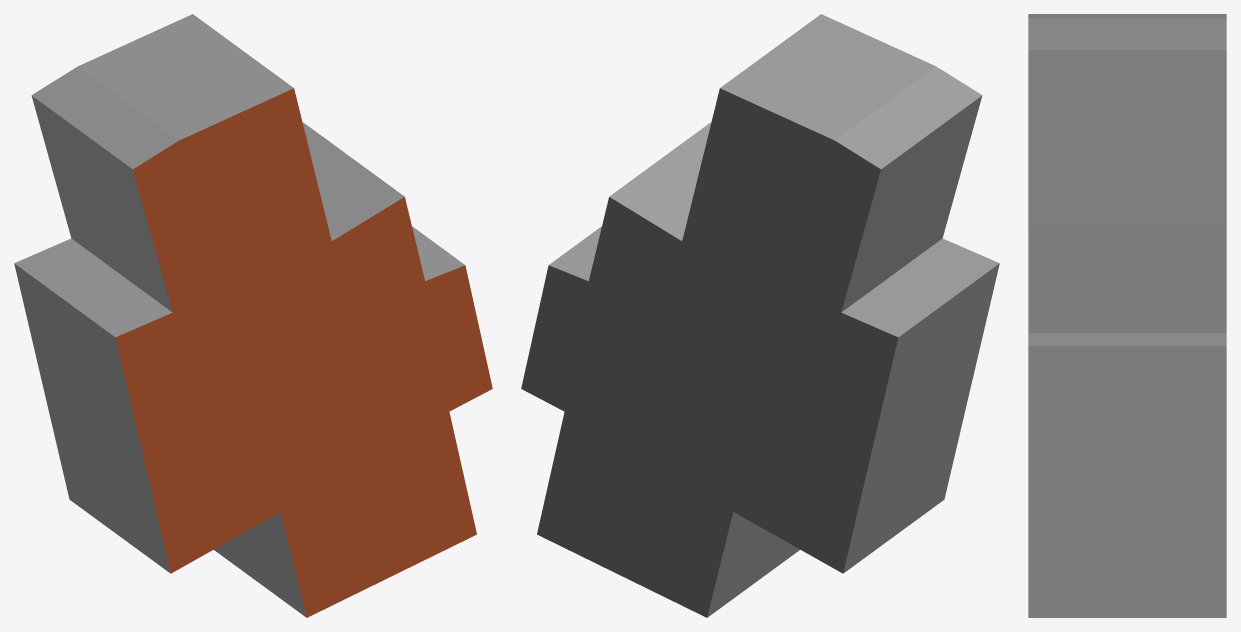
Rendered from construction_2834_assumed_A_Casa_h6m.obj.
3 views of the same model, side by side, from view 1: azimuth 30°, elevation 25°; view 2: azimuth 150°, elevation 25°; view 3: azimuth 270°, elevation 25° (orthographic). The views are drawn at different scales.
Visible parts, largest first — view 1: construction_2834_assumed_A_Casa; view 2: construction_2834_assumed_A_Casa; view 3: construction_2834_assumed_A_Casa.
Boxes of the visible parts, box(x1,y1,x2,y2) form: construction_2834_assumed_A_Casa: box(14, 14, 492, 617); construction_2834_assumed_A_Casa: box(521, 14, 999, 617); construction_2834_assumed_A_Casa: box(1028, 14, 1226, 617).
Size of the model in its own units: 12.9 by 17.41 by 6.
